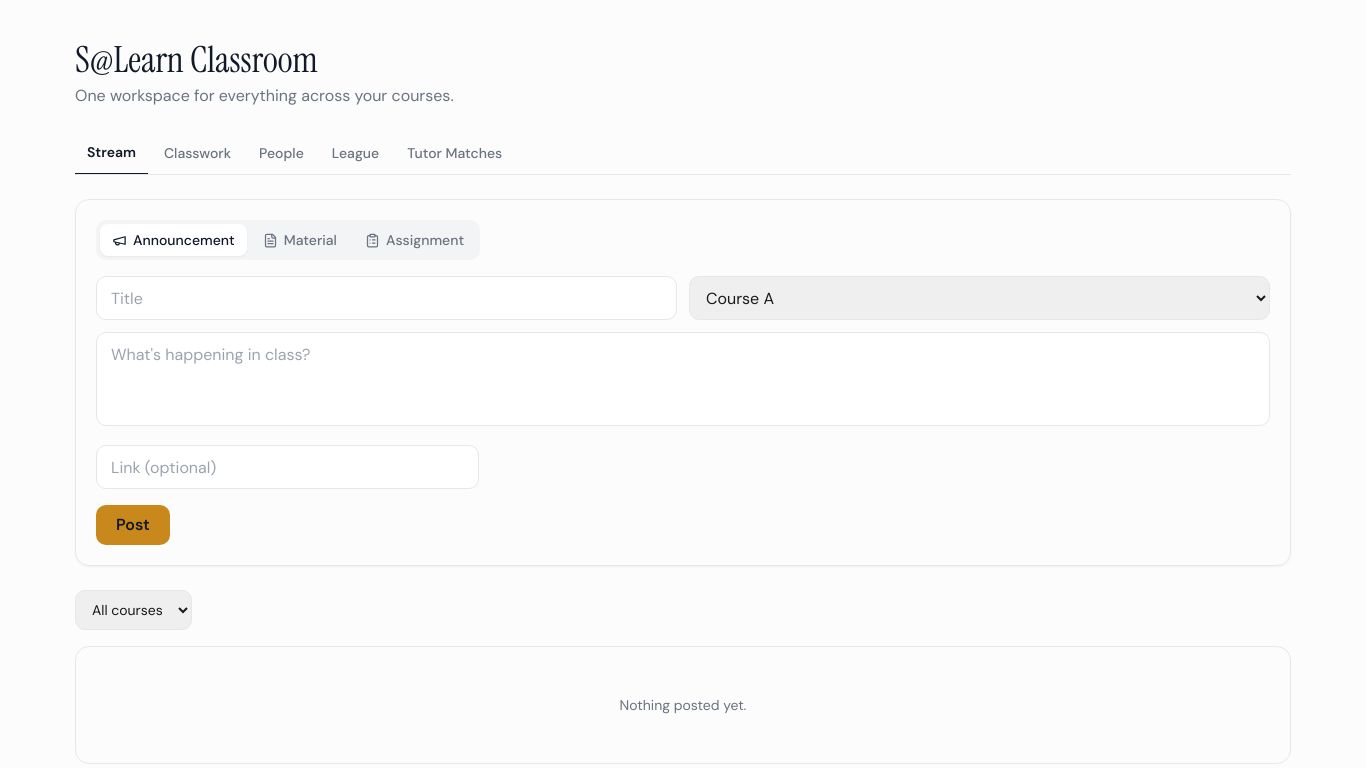
Test: SLearnClassroom › People section › opens Add Student with every course available as an option
The image size is (1366, 768).
Expected: the heading "S@Learn Classroom" is shown, [75,36,318,83]
Click the button "People". click: (281, 153)
box: [247,132,316,174]
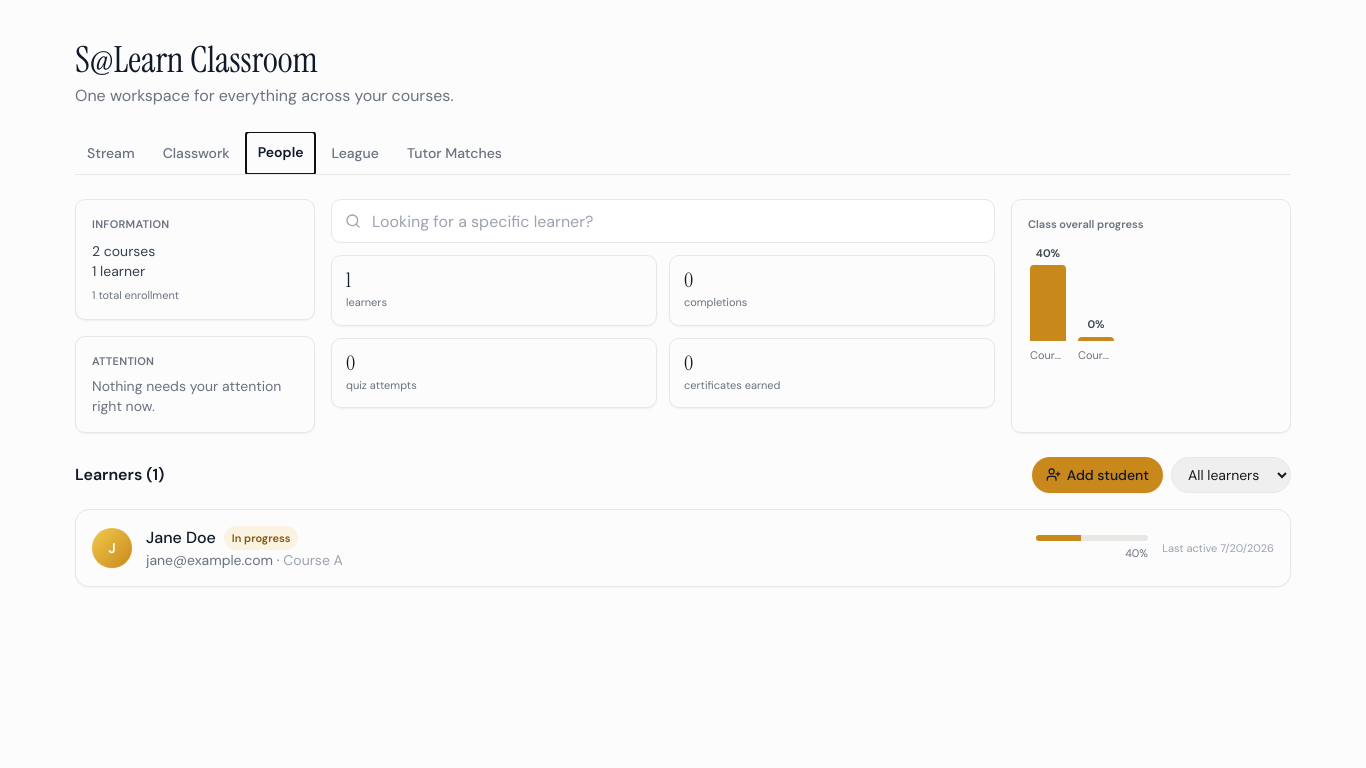
Expected: the text "Jane Doe" is shown, [146,526,216,550]
Click the button "Add student". click: (1097, 474)
box: [1032,456,1163,492]
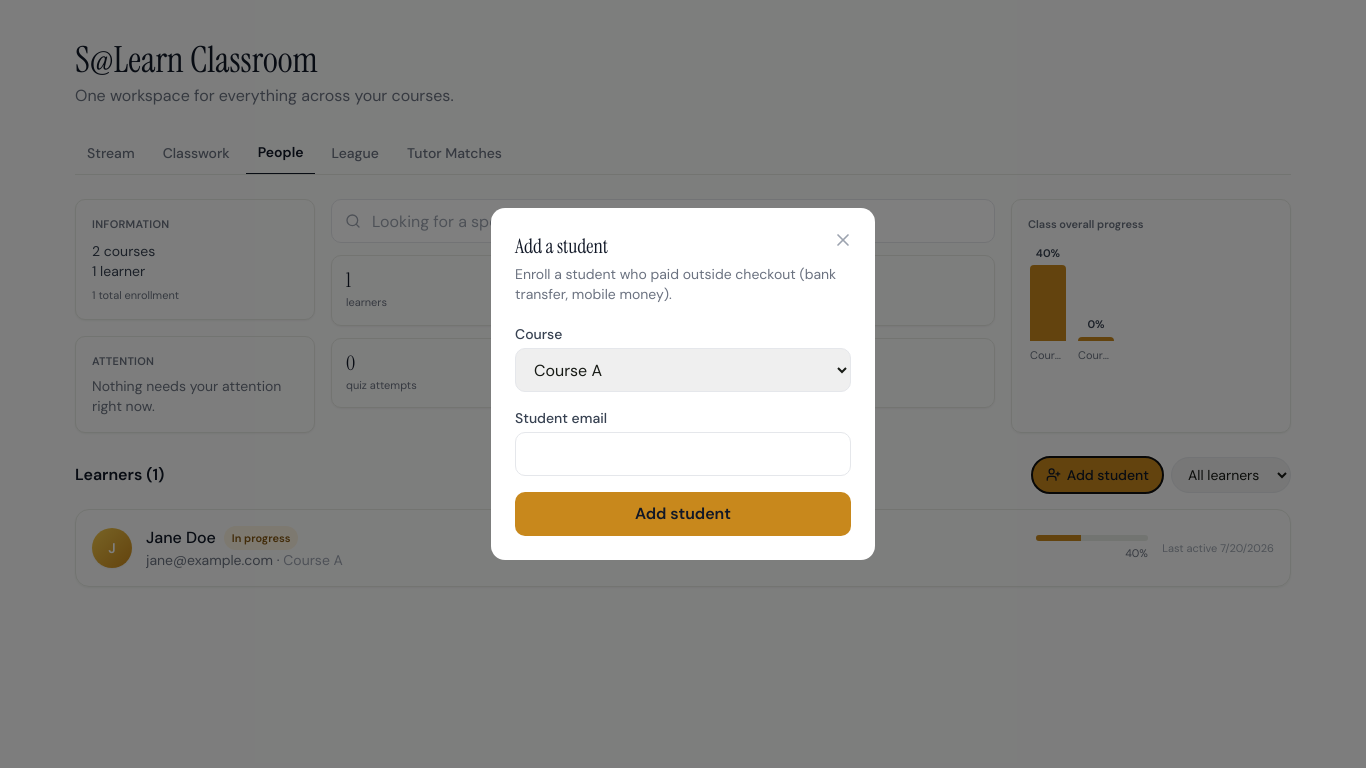
Expected: the dialog named "add student" is shown, [491,208,875,560]
